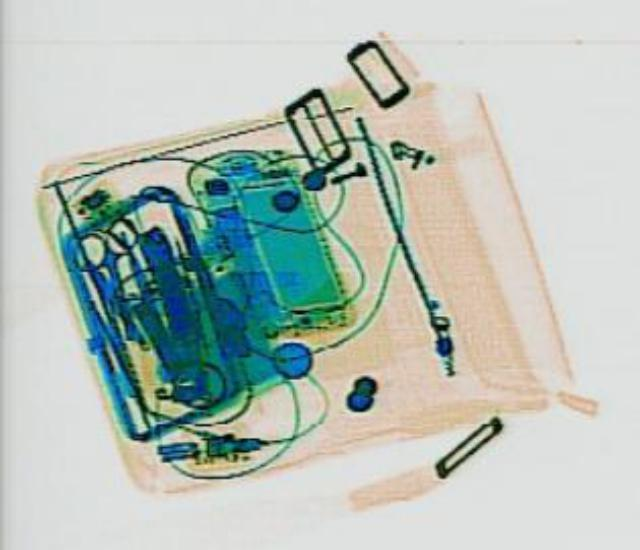Scissors: (59, 212, 163, 334)
